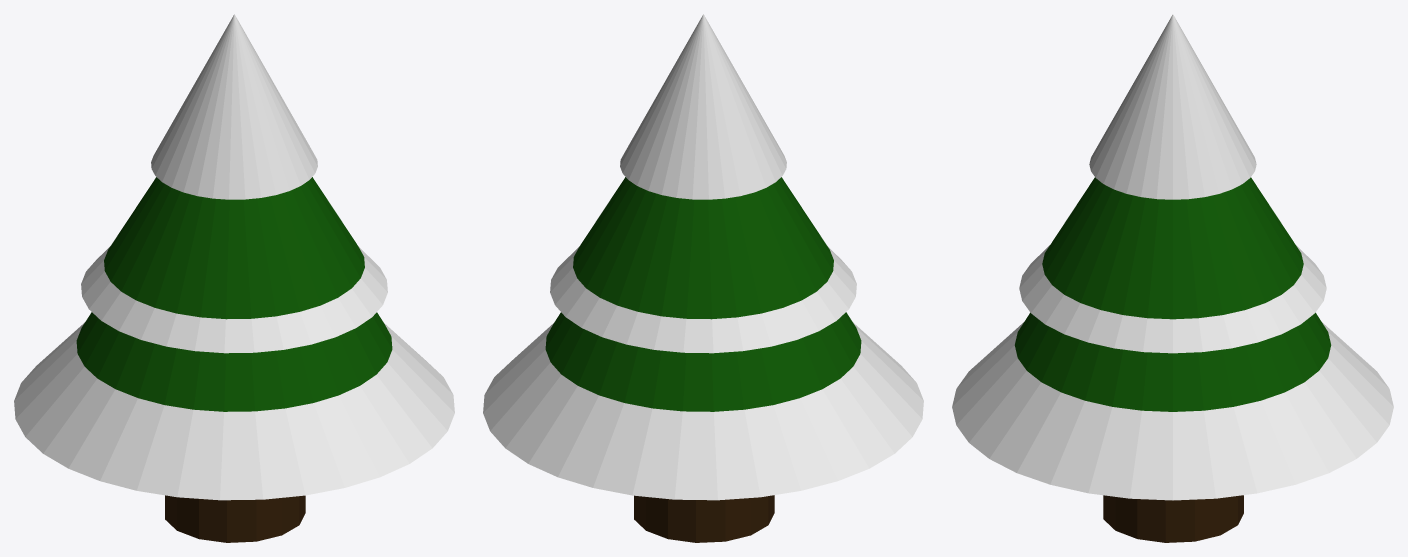
The model's file is snow_tree.fbx.
3 views of the same model, side by side, from view 1: azimuth 30°, elevation 25°; view 2: azimuth 150°, elevation 25°; view 3: azimuth 270°, elevation 25° (orthographic).
Visible parts, largest first — view 1: tree_1.001; view 2: tree_1.001; view 3: tree_1.001.
Boxes of the visible parts, box(x1,y1,x2,y2) form: tree_1.001: box(14, 14, 454, 542); tree_1.001: box(483, 14, 923, 542); tree_1.001: box(952, 14, 1393, 542).
Bounding box in the file's own units: 2913 × 3630 × 2913.
